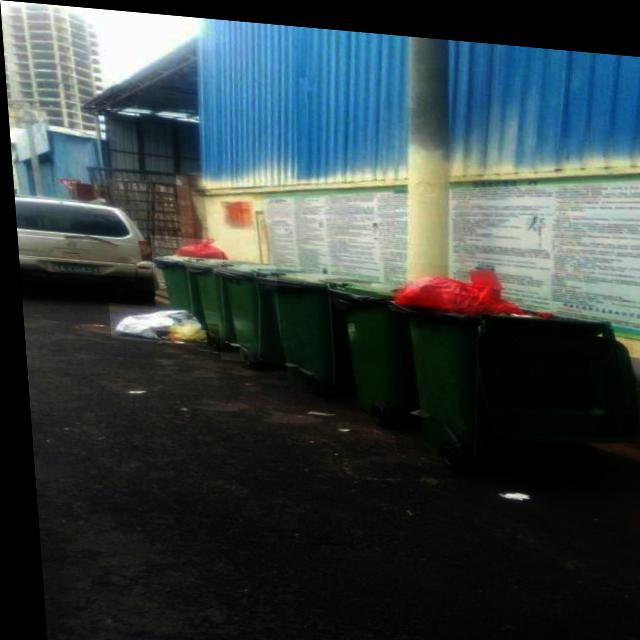garbage: (104, 301, 202, 343)
garbage_bin: (256, 265, 368, 387), (324, 274, 408, 408), (210, 257, 278, 360)
overflow: (379, 253, 636, 463), (147, 232, 223, 321)
